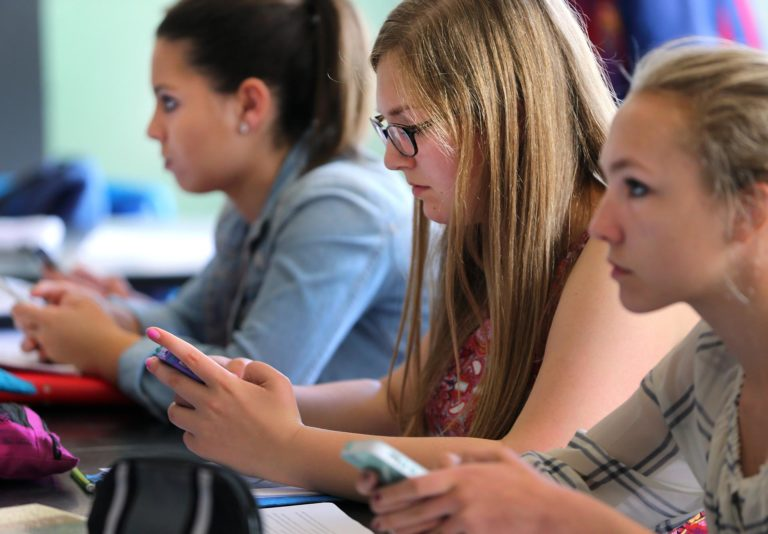Mobile-phone: (337, 434, 442, 503), (151, 339, 220, 407), (1, 275, 54, 329)
